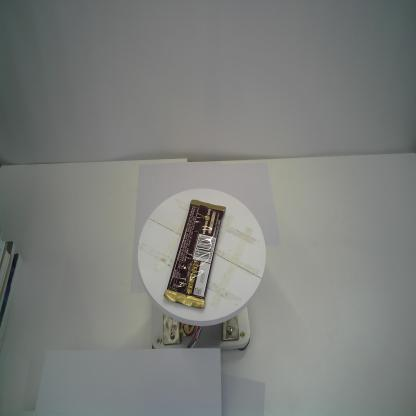Chocolate: (162, 198, 228, 312)
